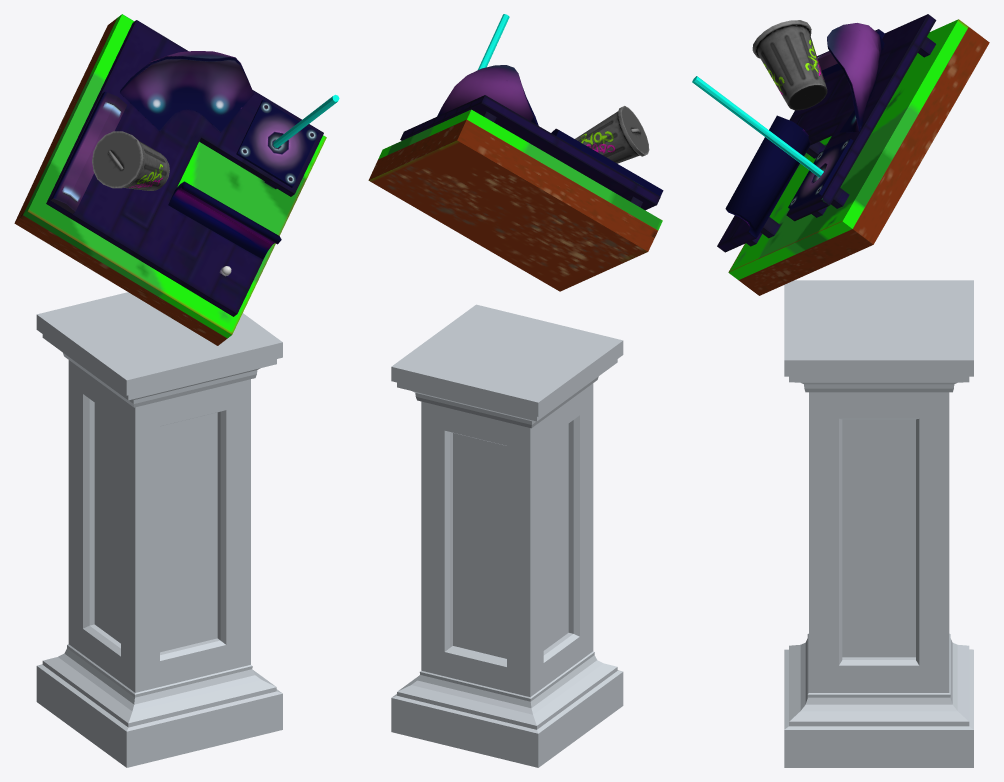
The model's file is land_urban.gltf.
The picture shows the model from 3 angles, left to right: view 1: azimuth 30°, elevation 25°; view 2: azimuth 150°, elevation 25°; view 3: azimuth 270°, elevation 25°; orthographic projection. The views are drawn at different scales.
Visible parts, largest first — view 1: land_urban; view 2: land_urban; view 3: land_urban.
Part boxes in pixels (bbox=[...]): land_urban: bbox=[14, 14, 339, 767]; land_urban: bbox=[368, 14, 663, 767]; land_urban: bbox=[692, 14, 989, 767].
Size of what is drawn, in the model's own units: 1.13 by 2.45 by 0.9265.
Materials: 2 (2 with a texture image).
